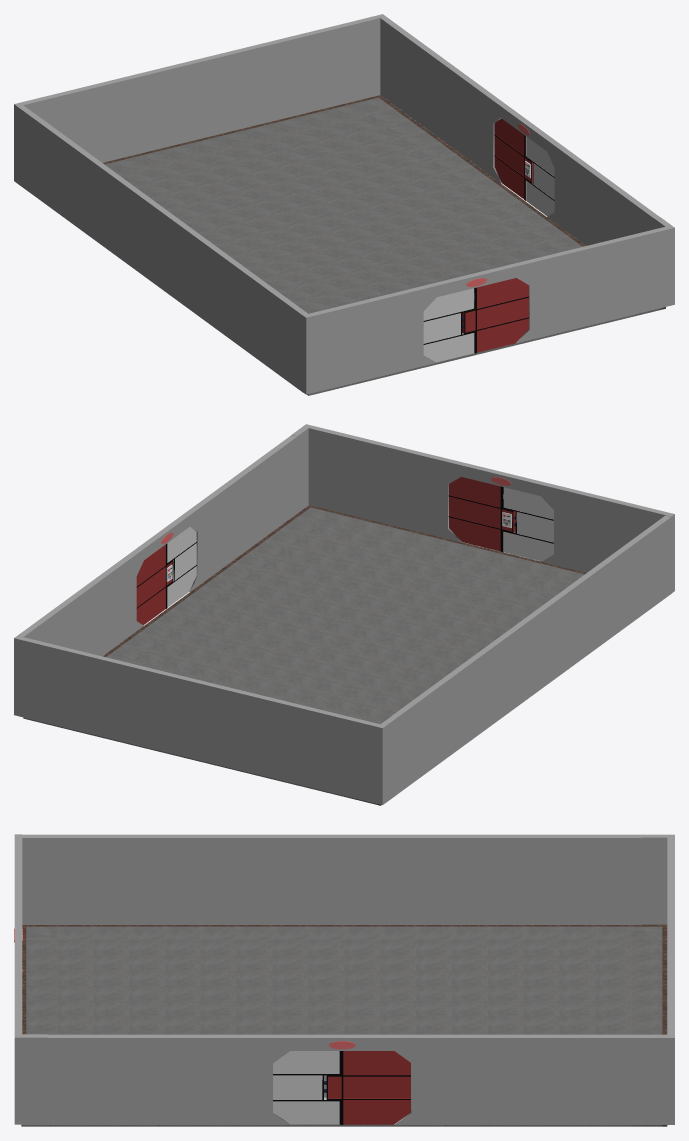
Rendered from sala_inicial.fbx.
The picture shows the model from 3 angles, top to bottom: view 1: azimuth 30°, elevation 25°; view 2: azimuth 150°, elevation 25°; view 3: azimuth 270°, elevation 25°; orthographic projection. The views are drawn at different scales.
Visible parts, largest first — view 1: pCube37, pared_puerta (×2), puerta_roja (×2), puerta_chiquita (×2), pared27 (×2), pared28 (×2), pared11, pared13, pared37, pared59, pared35, pared17 (+44 smaller); view 2: pCube37, pared_puerta (×2), puerta_roja (×2), puerta_chiquita (×2), pared28 (×2), pared27 (×3), pared32, pared15, pared35, pared33, pared11, pared40 (+43 smaller); view 3: pCube37, pared_puerta (×2), puerta_roja, pared27 (×2), puerta_chiquita, pared60, pared42, pared44, pared46, pared48, pared50, pared41 (+25 smaller).
Part boxes in pixels (x1,y1,x2,y2): pCube37: [103, 95, 665, 395]; pared_puerta (×2): [406, 92, 568, 369]; puerta_roja (×2): [462, 118, 532, 352]; puerta_chiquita (×2): [423, 136, 554, 362]; pared27 (×2): [17, 15, 380, 191]; pared28 (×2): [14, 98, 674, 310]; pared11: [543, 250, 572, 335]; pared13: [595, 237, 625, 322]; pared37: [119, 72, 149, 157]; pared59: [302, 309, 329, 394]; pared35: [172, 59, 201, 144]; pared17: [326, 303, 355, 388]; pCube37: [23, 505, 586, 805]; pared_puerta (×2): [122, 455, 571, 637]; puerta_roja (×2): [136, 477, 515, 625]; puerta_chiquita (×2): [166, 487, 553, 608]; pared28 (×2): [303, 424, 386, 804]; pared27 (×3): [20, 426, 397, 802]; pared32: [118, 661, 148, 746]; pared15: [568, 489, 598, 572]; pared35: [198, 680, 227, 766]; pared33: [145, 668, 174, 753]; pared11: [405, 449, 434, 534]; pared40: [330, 713, 359, 798]; pCube37: [21, 924, 667, 1126]; pared_puerta (×2): [14, 891, 432, 1124]; puerta_roja: [326, 1051, 410, 1124]; pared27 (×2): [22, 834, 667, 1124]; puerta_chiquita: [273, 1051, 341, 1124]; pared60: [639, 1034, 674, 1124]; pared42: [572, 834, 607, 924]; pared44: [503, 834, 538, 924]; pared46: [434, 834, 469, 924]; pared48: [365, 834, 400, 924]; pared50: [296, 834, 331, 924]; pared41: [607, 834, 641, 924].
Bounding box in the file's own units: 40.53 × 8.57 × 55.59.
